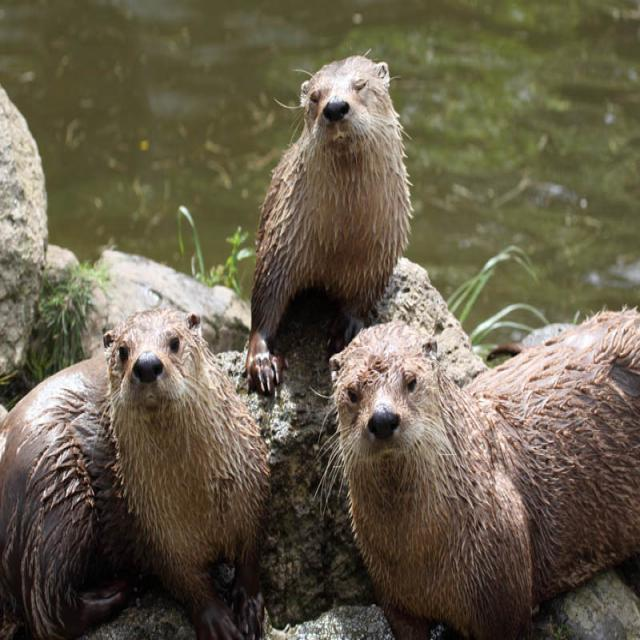otter: (336, 314, 640, 620), (1, 311, 266, 632), (256, 54, 403, 373)
